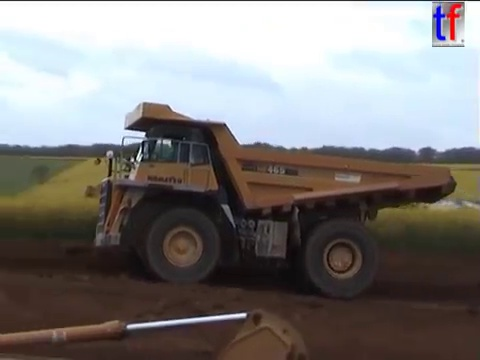excavator: (1, 304, 312, 360)
truck: (91, 98, 458, 302)
